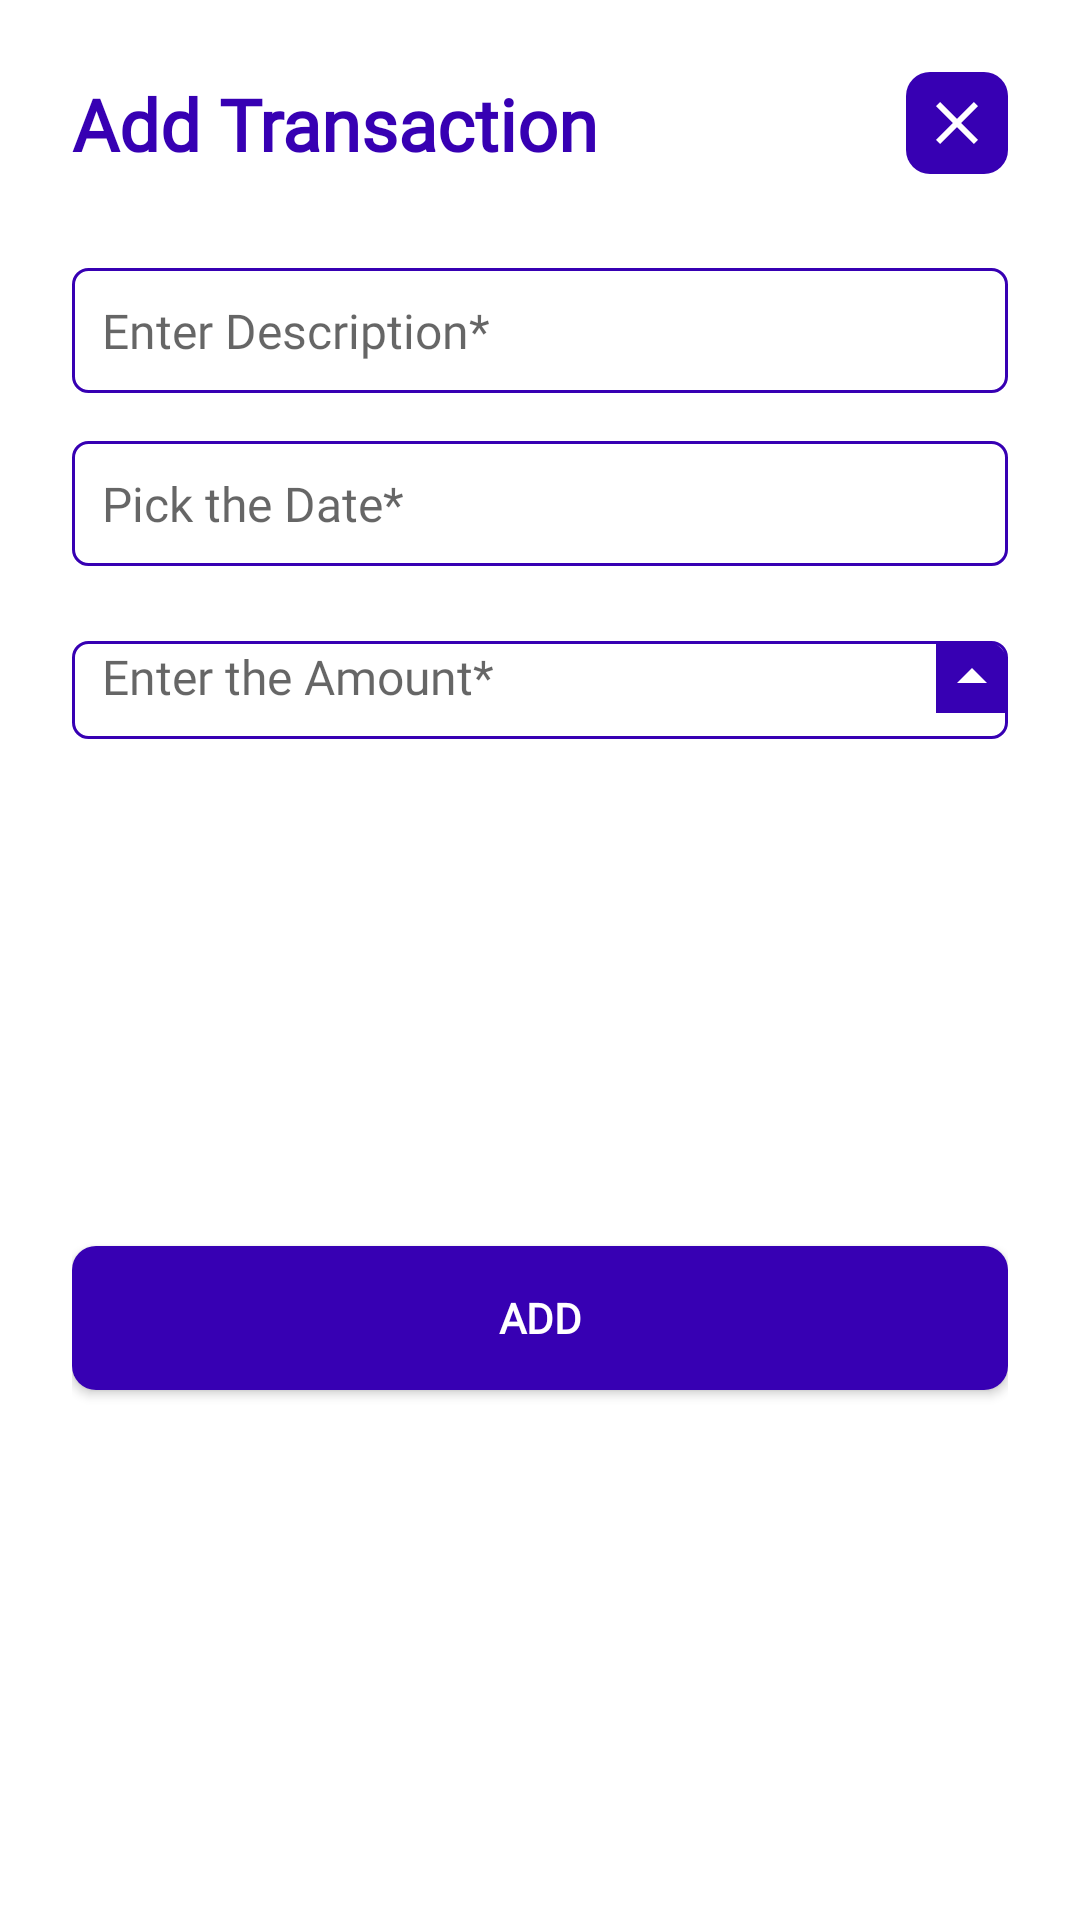

Screen size 1080*1920. Icon name, then its box in pixels as detection(x1, y1, x2, y2):
arrow drop up: detection(936, 641, 1008, 713)
cross: detection(906, 72, 1008, 174)
